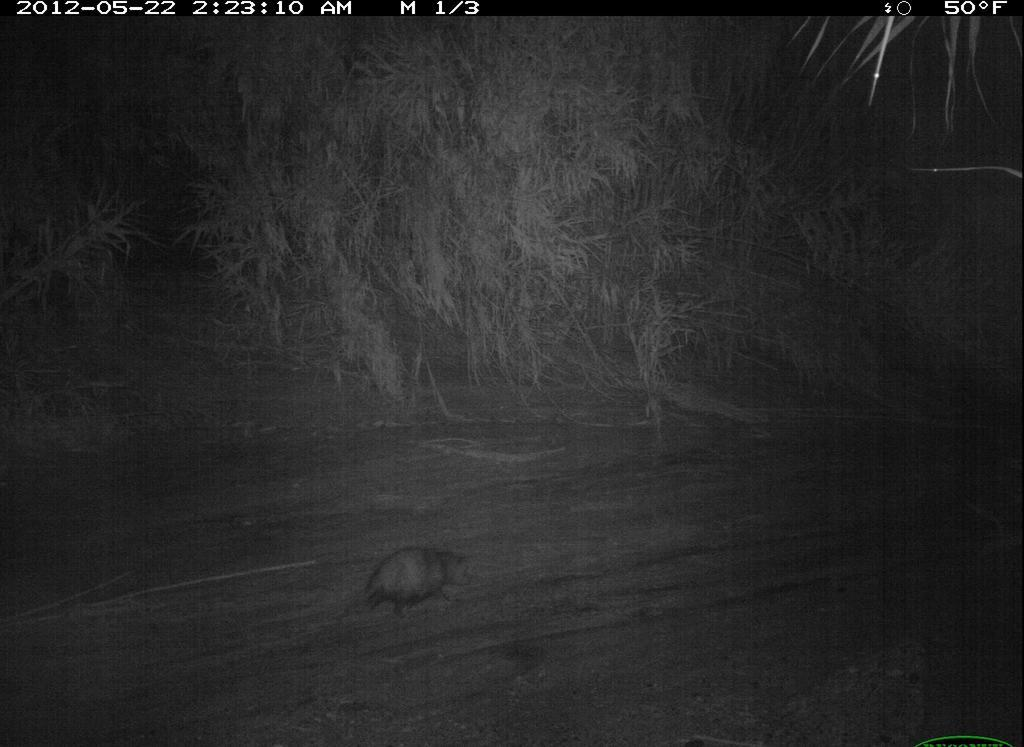opossum: (349, 541, 478, 629)
